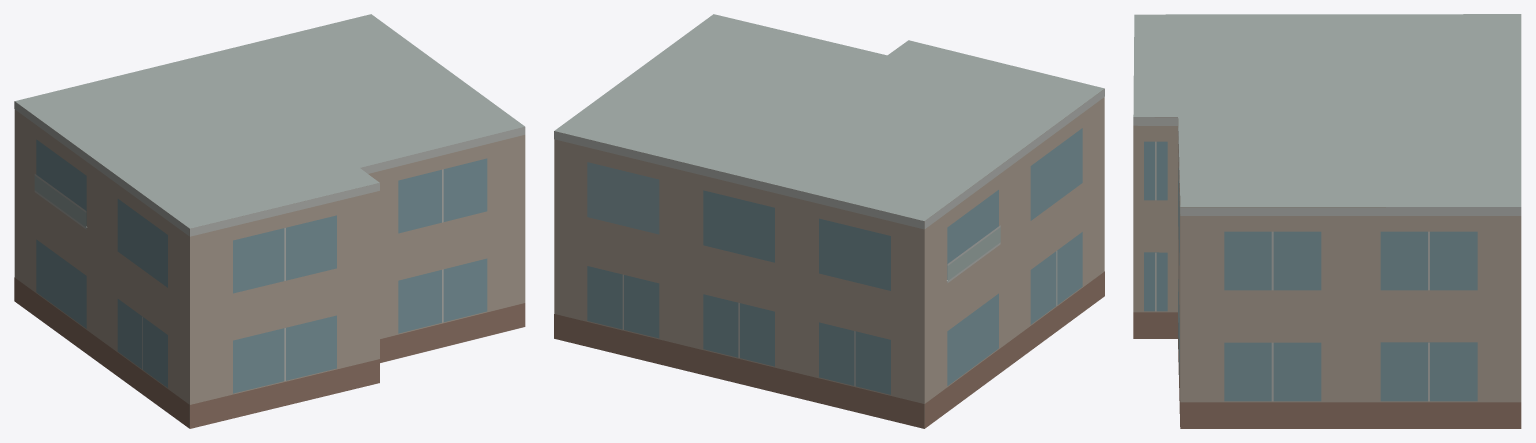
Rendered from survey-upis-32998067.glb.
3 views of the same model, side by side, from view 1: azimuth 30°, elevation 25°; view 2: azimuth 150°, elevation 25°; view 3: azimuth 270°, elevation 25° (orthographic). The views are drawn at different scales.
Visible parts, largest first — view 1: survey-upis-32998067.tmp; view 2: survey-upis-32998067.tmp; view 3: survey-upis-32998067.tmp.
Part boxes in pixels (x1=…): survey-upis-32998067.tmp: x1=14, y1=14, x2=525, y2=428; survey-upis-32998067.tmp: x1=554, y1=14, x2=1104, y2=428; survey-upis-32998067.tmp: x1=1133, y1=14, x2=1521, y2=428.
Bounding box in the file's own units: 11.43 × 6.1 × 9.69.
